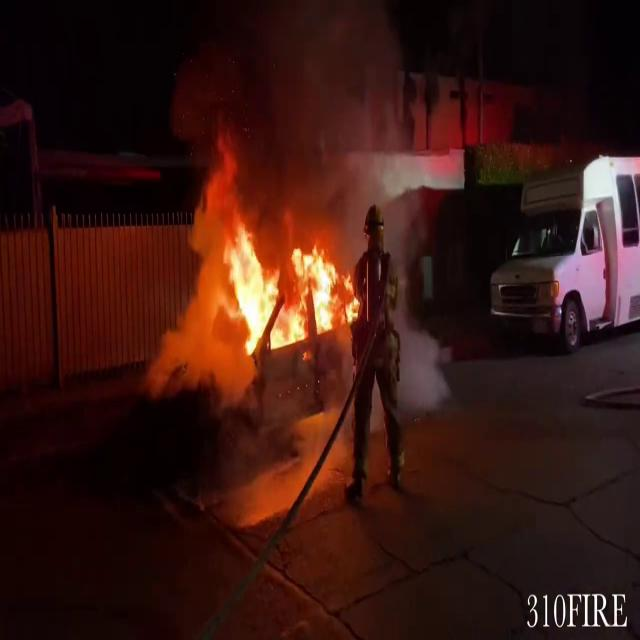Fire: (193, 180, 361, 357)
Smoke: (165, 1, 407, 219)
